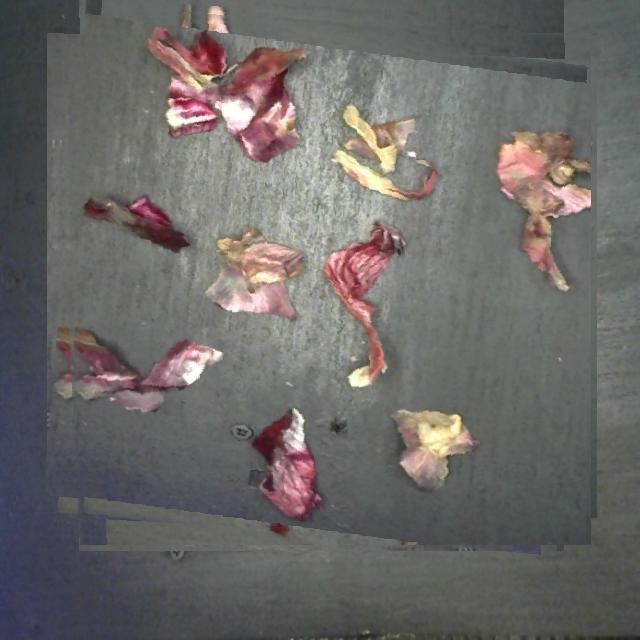biodegradable: (52, 6, 591, 545)
